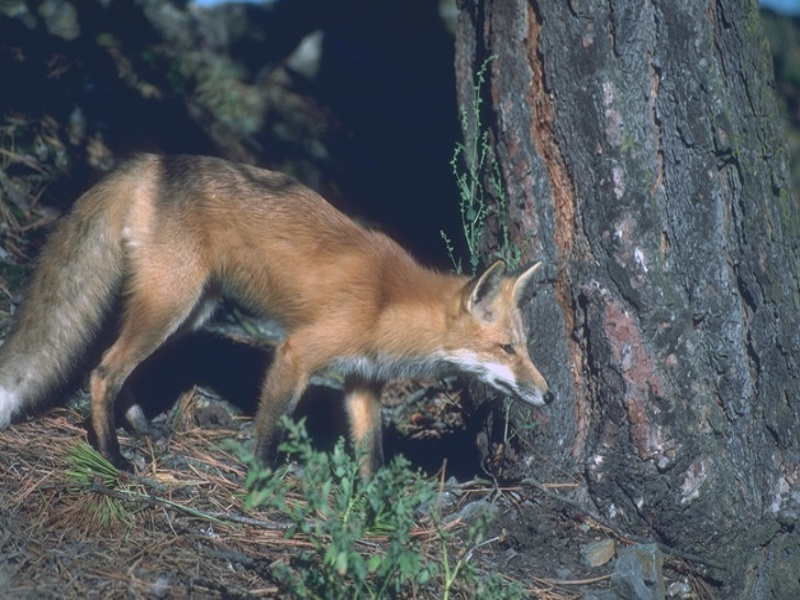fox: (1, 143, 561, 499)
